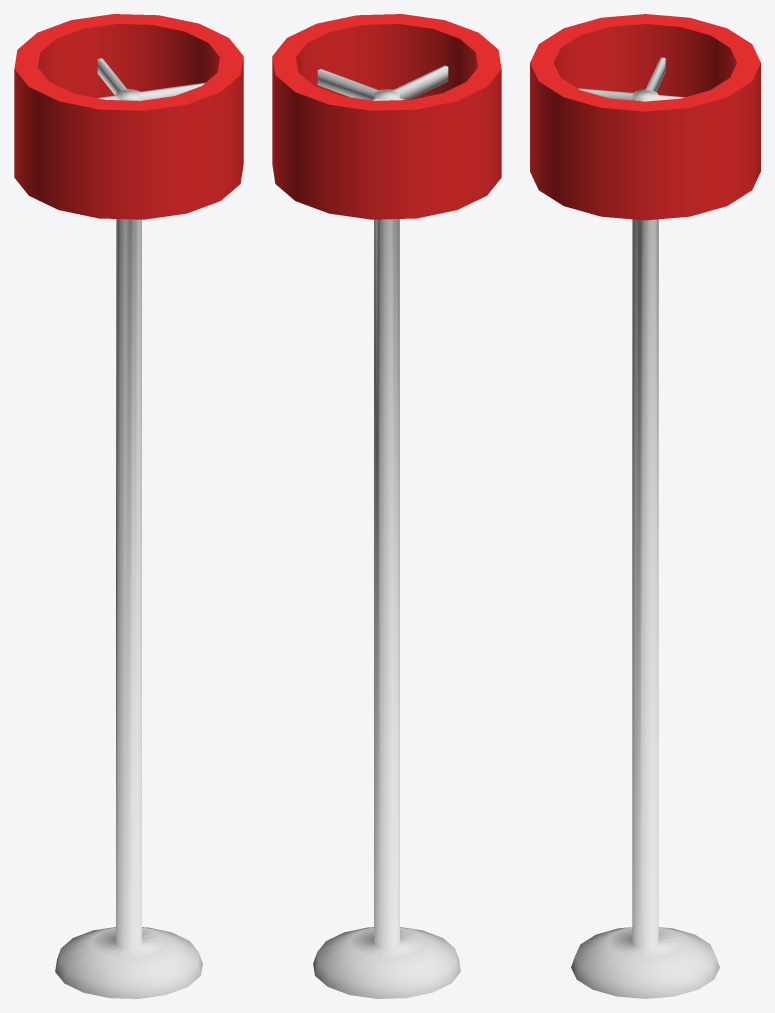
Rendered from lamp.glb.
3 views of the same model, side by side, from view 1: azimuth 30°, elevation 25°; view 2: azimuth 150°, elevation 25°; view 3: azimuth 270°, elevation 25° (orthographic).
Visible parts, largest first — view 1: Lamp_1; view 2: Lamp_1; view 3: Lamp_1.
Part boxes in pixels (<box>): Lamp_1: <box>14,14,243,998</box>; Lamp_1: <box>272,14,501,998</box>; Lamp_1: <box>530,14,760,998</box>.
Bounding box in the file's own units: 0.3502 × 1.51 × 0.3502.
Materials: 1 (1 with a texture image).
